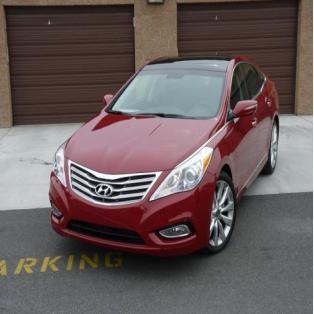Auto: (47, 53, 280, 262)
